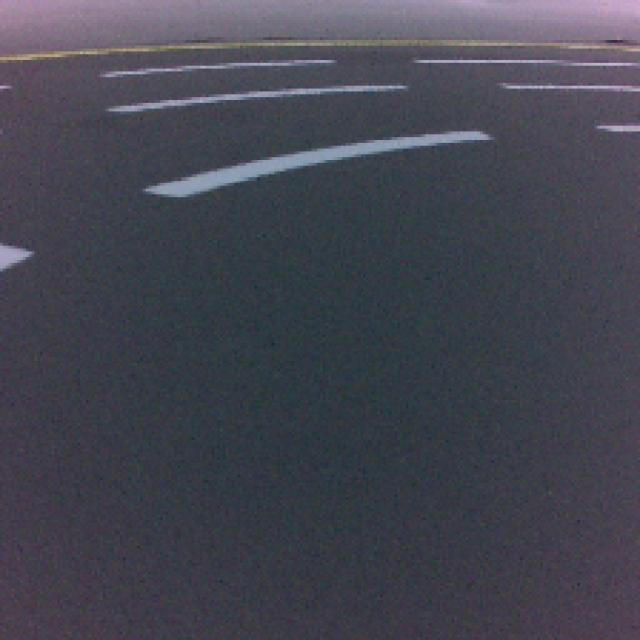Road: (0, 256, 640, 640)
